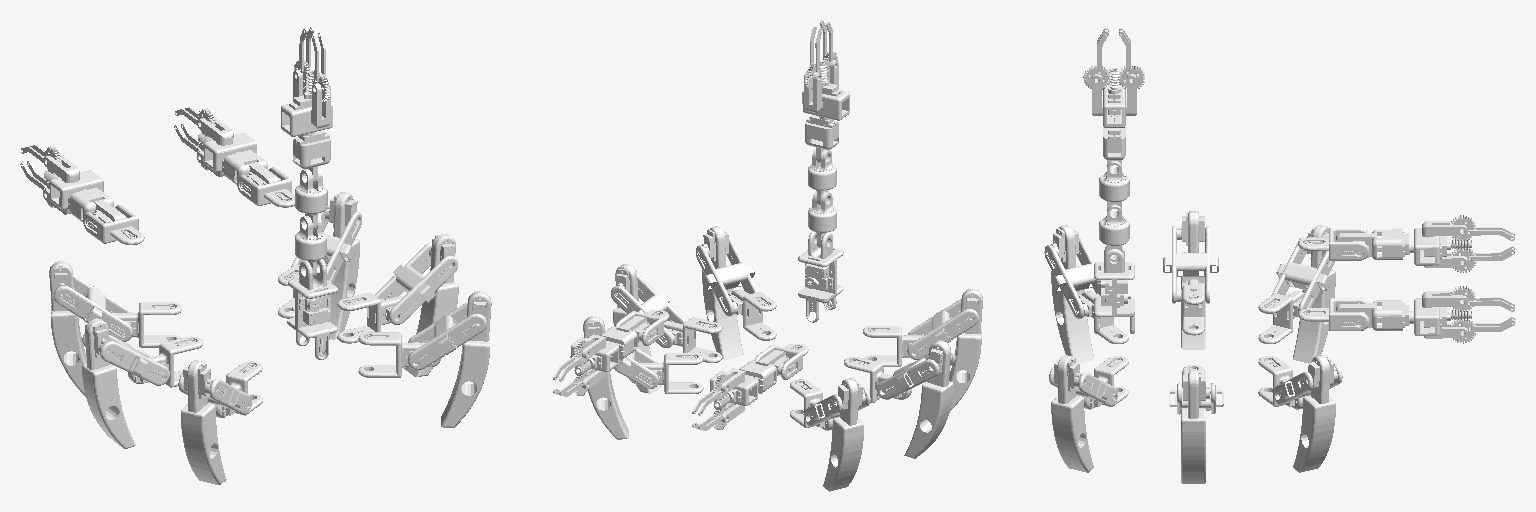
--- What the picture shows (computed from the rendered views, not written in the file) ---
The picture shows the robot from 3 angles, left to right: view 1: azimuth 30°, elevation 25°; view 2: azimuth 150°, elevation 25°; view 3: azimuth 270°, elevation 25°; orthographic projection.
Robot: sc — 36 links, 35 joints (35 revolute); root link BASE; default pose: all joints at 0.
Visible links, largest first — view 1: Link3_3, Link2_3, TLink1, Link6_3, Link5_2, Link1_3, Link6_2, TLink5, Link1_2, Link4_3, Link5_3, LLink3 (+18 smaller); view 2: Link1_3, Link2_3, TLink1, Link6_3, Link3_3, Link6_2, Link3_2, TLink5, Link4_3, Link5_2, LLink3, RLink3 (+18 smaller); view 3: Link6_3, Link4_3, Link5_3, Link3_3, TLink1, RLink3, LLink3, Link1_2, TLink5, Link1_3, Link3_2, Link2_2 (+22 smaller).
Boxes of the visible links, left/top/right/bottom form: Link3_3: left=181, top=360, right=226, bottom=484; Link2_3: left=82, top=318, right=135, bottom=448; TLink1: left=287, top=259, right=337, bottom=359; Link6_3: left=441, top=291, right=491, bottom=427; Link5_2: left=375, top=243, right=457, bottom=324; Link1_3: left=49, top=261, right=86, bottom=396; Link6_2: left=408, top=302, right=486, bottom=369; TLink5: left=281, top=68, right=332, bottom=136; Link1_2: left=54, top=274, right=132, bottom=341; Link4_3: left=324, top=192, right=359, bottom=339; Link5_3: left=404, top=234, right=458, bottom=376; LLink3: left=43, top=153, right=103, bottom=214; Link1_3: left=823, top=378, right=865, bottom=491; Link2_3: left=904, top=340, right=953, bottom=458; TLink1: left=798, top=231, right=843, bottom=322; Link6_3: left=702, top=226, right=743, bottom=359; Link3_3: left=949, top=289, right=982, bottom=410; Link6_2: left=696, top=239, right=757, bottom=316; Link3_2: left=907, top=298, right=978, bottom=359; TLink5: left=802, top=59, right=849, bottom=120; Link4_3: left=583, top=316, right=628, bottom=439; Link5_2: left=611, top=275, right=686, bottom=347; LLink3: left=710, top=368, right=757, bottom=423; RLink3: left=570, top=334, right=618, bottom=389; Link6_3: left=1051, top=355, right=1093, bottom=472; Link4_3: left=1293, top=355, right=1337, bottom=472; Link5_3: left=1181, top=370, right=1210, bottom=483; Link3_3: left=1051, top=225, right=1093, bottom=362; TLink1: left=1094, top=246, right=1134, bottom=333; RLink3: left=1414, top=291, right=1471, bottom=338; LLink3: left=1414, top=221, right=1471, bottom=267; Link1_2: left=1271, top=237, right=1334, bottom=312; TLink5: left=1092, top=68, right=1136, bottom=127; Link1_3: left=1293, top=225, right=1335, bottom=363; Link3_2: left=1044, top=238, right=1100, bottom=318; Link2_2: left=1163, top=226, right=1218, bottom=303.
Size in the robot's own frame: 0.3911 by 0.4613 by 0.4156 metres.
Meshes: 36 distinct files referenced, 35 mesh visuals loaded (35 binary STL); not drawn: 1 (reference not matched to a file when rendering).

URDF robot description (sc):
<?xml version="1.0" encoding="utf-8" ?>
<!-- This URDF was automatically created by SolidWorks to URDF Exporter! Originally created by Stephen Brawner ([email redacted]) 
     Commit Version: 1.6.0-4-g7f85cfe  Build Version: 1.6.7995.38578
     For more information, please see http://wiki.ros.org/sw_urdf_exporter -->
<robot name="sc">
    <link name="BASE">
        <inertial>
            <origin xyz="5.72467459547532E-09 0.0159202797459075 0.0194791934838799" rpy="0 0 0" />
            <mass value="0.284211086498301" />
            <inertia ixx="0.000361064358674811" ixy="5.3486352288648E-11" ixz="-9.68382318932767E-12" iyy="0.000163704844526669" iyz="1.26663197260185E-08" izz="0.000503898022090358" />
        </inertial>
        <visual>
            <origin xyz="0 0 0" rpy="0 0 0" />
            <geometry>
                <mesh filename="package://sc/meshes/BASE.STL" />
            </geometry>
            <material name="">
                <color rgba="1 1 1 1" />
            </material>
        </visual>
        <collision>
            <origin xyz="0 0 0" rpy="0 0 0" />
            <geometry>
                <mesh filename="package://sc/meshes/BASE.STL" />
            </geometry>
        </collision>
    </link>
    <link name="Link1_1">
        <inertial>
            <origin xyz="-0.0305510790740942 0.0167741325759093 -0.0182493779419036" rpy="0 0 0" />
            <mass value="0.0229260891182904" />
            <inertia ixx="3.85763370952868E-06" ixy="1.89277165572134E-06" ixz="4.36687715899513E-10" iyy="6.01502051568703E-06" iyz="-2.48827974729027E-10" izz="5.27293792722868E-06" />
        </inertial>
        <visual>
            <origin xyz="0 0 0" rpy="0 0 0" />
            <geometry>
                <mesh filename="package://sc/meshes/Link1_1.STL" />
            </geometry>
            <material name="">
                <color rgba="1 1 1 1" />
            </material>
        </visual>
        <collision>
            <origin xyz="0 0 0" rpy="0 0 0" />
            <geometry>
                <mesh filename="package://sc/meshes/Link1_1.STL" />
            </geometry>
        </collision>
    </link>
    <joint name="Joint1_1" type="revolute">
        <origin xyz="-0.062392 0.061425 0.02595" rpy="0 0 0" />
        <parent link="BASE" />
        <child link="Link1_1" />
        <axis xyz="0 0 1" />
        <limit lower="-7" upper="7" effort="100" velocity="100" />
    </joint>
    <link name="Link1_2">
        <inertial>
            <origin xyz="-0.0158388290918334 0.0300544158992501 0.0199694861387752" rpy="0 0 0" />
            <mass value="0.0237018015212768" />
            <inertia ixx="7.56412841109665E-06" ixy="5.37713054967067E-08" ixz="2.47900674543859E-06" iyy="7.62621816650311E-06" iyz="-1.43125521180187E-06" izz="9.66468972303202E-06" />
        </inertial>
        <visual>
            <origin xyz="0 0 0" rpy="0 0 0" />
            <geometry>
                <mesh filename="package://sc/meshes/Link1_2.STL" />
            </geometry>
            <material name="">
                <color rgba="1 1 1 1" />
            </material>
        </visual>
        <collision>
            <origin xyz="0 0 0" rpy="0 0 0" />
            <geometry>
                <mesh filename="package://sc/meshes/Link1_2.STL" />
            </geometry>
        </collision>
    </link>
    <joint name="Joint1_2" type="revolute">
        <origin xyz="-0.0480172012540558 0.00353176779071716 -0.0184000000000004" rpy="0 0 0" />
        <parent link="Link1_1" />
        <child link="Link1_2" />
        <axis xyz="-0.499999999999997 -0.86602540378444 0" />
        <limit lower="-7" upper="7" effort="100" velocity="100" />
    </joint>
    <link name="Link1_3">
        <inertial>
            <origin xyz="0.016171988039484 0.0145112463016462 -0.0449869707899275" rpy="0 0 0" />
            <mass value="0.0578996972602494" />
            <inertia ixx="4.96036614484442E-05" ixy="1.27231313084372E-06" ixz="9.17320129391968E-06" iyy="5.10707532414175E-05" iyz="-5.31073729488966E-06" izz="7.47030700929341E-06" />
        </inertial>
        <visual>
            <origin xyz="0 0 0" rpy="0 0 0" />
            <geometry>
                <mesh filename="package://sc/meshes/Link1_3.STL" />
            </geometry>
            <material name="">
                <color rgba="1 1 1 1" />
            </material>
        </visual>
        <collision>
            <origin xyz="0 0 0" rpy="0 0 0" />
            <geometry>
                <mesh filename="package://sc/meshes/Link1_3.STL" />
            </geometry>
        </collision>
    </link>
    <joint name="Joint1_3" type="revolute">
        <origin xyz="-0.0497861313024054 0.0287440363093533 0.0399389722775644" rpy="0 0 0" />
        <parent link="Link1_2" />
        <child link="Link1_3" />
        <axis xyz="-0.499999999999998 -0.86602540378444 0" />
        <limit lower="-7" upper="7" effort="100" velocity="100" />
    </joint>
    <link name="Link2_1">
        <inertial>
            <origin xyz="0.034845075167807 -0.000748713097714162 0.0182493777000012" rpy="0 0 0" />
            <mass value="0.022926095326487" />
            <inertia ixx="2.75779226801906E-06" ixy="-1.22095586301876E-08" ixz="5.02513216807862E-10" iyy="7.11486267373788E-06" iyz="-2.95741168729654E-12" izz="5.27293836480296E-06" />
        </inertial>
        <visual>
            <origin xyz="0 0 0" rpy="0 0 0" />
            <geometry>
                <mesh filename="package://sc/meshes/Link2_1.STL" />
            </geometry>
            <material name="">
                <color rgba="1 1 1 1" />
            </material>
        </visual>
        <collision>
            <origin xyz="0 0 0" rpy="0 0 0" />
            <geometry>
                <mesh filename="package://sc/meshes/Link2_1.STL" />
            </geometry>
        </collision>
    </link>
    <joint name="Joint2_1" type="revolute">
        <origin xyz="-0.082878 -0.0125 0.02595" rpy="3.1416 0 3.1416" />
        <parent link="BASE" />
        <child link="Link2_1" />
        <axis xyz="0 0 -1" />
        <limit lower="-7" upper="7" effort="100" velocity="100" />
    </joint>
    <link name="Link2_2">
        <inertial>
            <origin xyz="-0.0287440363093526 0.018108473118737 0.0199694861387753" rpy="0 0 0" />
            <mass value="0.0237018015212768" />
            <inertia ixx="7.53308353339347E-06" ixy="-2.85335952300167E-20" ixz="2.86251042360374E-06" iyy="7.6572630442063E-06" iyz="-3.81887575324653E-20" izz="9.66468972303202E-06" />
        </inertial>
        <visual>
            <origin xyz="0 0 0" rpy="0 0 0" />
            <geometry>
                <mesh filename="package://sc/meshes/Link2_2.STL" />
            </geometry>
            <material name="">
                <color rgba="1 1 1 1" />
            </material>
        </visual>
        <collision>
            <origin xyz="0 0 0" rpy="0 0 0" />
            <geometry>
                <mesh filename="package://sc/meshes/Link2_2.STL" />
            </geometry>
        </collision>
    </link>
    <joint name="Joint2_2" type="revolute">
        <origin xyz="0.0433500000000012 -0.0209499999999987 0.0184000000000004" rpy="3.14159265358979 0 3.14159265358979" />
        <parent link="Link2_1" />
        <child link="Link2_2" />
        <axis xyz="0 -1 0" />
        <limit lower="-7" upper="7" effort="100" velocity="100" />
    </joint>
    <link name="Link2_3">
        <inertial>
            <origin xyz="0.00674972944168441 0.0206531015833406 -0.0449869694528496" rpy="0 0 0" />
            <mass value="0.0578997001933118" />
            <inertia ixx="4.8868579913715E-05" ixy="8.87141400882127E-10" ixz="1.05995945472986E-05" iyy="5.18058370888588E-05" iyz="-1.26326825912351E-08" izz="7.47030739789493E-06" />
        </inertial>
        <visual>
            <origin xyz="0 0 0" rpy="0 0 0" />
            <geometry>
                <mesh filename="package://sc/meshes/Link2_3.STL" />
            </geometry>
            <material name="">
                <color rgba="1 1 1 1" />
            </material>
        </visual>
        <collision>
            <origin xyz="0 0 0" rpy="0 0 0" />
            <geometry>
                <mesh filename="package://sc/meshes/Link2_3.STL" />
            </geometry>
        </collision>
    </link>
    <joint name="Joint2_3" type="revolute">
        <origin xyz="-0.0574880726187073 0 0.0399389722775644" rpy="0 0 0" />
        <parent link="Link2_2" />
        <child link="Link2_3" />
        <axis xyz="0 -1 0" />
        <limit lower="-7" upper="7" effort="100" velocity="100" />
    </joint>
    <link name="Link3_1">
        <inertial>
            <origin xyz="-0.0298023675063099 -0.0180709386947381 -0.018249377359046" rpy="0 0 0" />
            <mass value="0.0229260885202522" />
            <inertia ixx="3.83648621668762E-06" ixy="-1.88056216106497E-06" ixz="4.33688370503816E-10" iyy="6.03616793825558E-06" iyz="2.53684826208611E-10" izz="5.27293789875808E-06" />
        </inertial>
        <visual>
            <origin xyz="0 0 0" rpy="0 0 0" />
            <geometry>
                <mesh filename="package://sc/meshes/Link3_1.STL" />
            </geometry>
            <material name="">
                <color rgba="1 1 1 1" />
            </material>
        </visual>
        <collision>
            <origin xyz="0 0 0" rpy="0 0 0" />
            <geometry>
                <mesh filename="package://sc/meshes/Link3_1.STL" />
            </geometry>
        </collision>
    </link>
    <joint name="Joint3_1" type="revolute">
        <origin xyz="-0.062392 -0.086425 0.02595" rpy="0 0 0" />
        <parent link="BASE" />
        <child link="Link3_1" />
        <axis xyz="0 0 1" />
        <limit lower="-7" upper="7" effort="100" velocity="100" />
    </joint>
    <link name="Link3_2">
        <inertial>
            <origin xyz="-0.0339473022105701 0.00131037958989745 0.0199694861387753" rpy="0 0 0" />
            <mass value="0.0237018015212768" />
            <inertia ixx="7.5641284110967E-06" ixy="-5.37713054967398E-08" ixz="2.47900674543861E-06" iyy="7.62621816650305E-06" iyz="1.43125521180184E-06" izz="9.66468972303203E-06" />
        </inertial>
        <visual>
            <origin xyz="0 0 0" rpy="0 0 0" />
            <geometry>
                <mesh filename="package://sc/meshes/Link3_2.STL" />
            </geometry>
            <material name="">
                <color rgba="1 1 1 1" />
            </material>
        </visual>
        <collision>
            <origin xyz="0 0 0" rpy="0 0 0" />
            <geometry>
                <mesh filename="package://sc/meshes/Link3_2.STL" />
            </geometry>
        </collision>
    </link>
    <joint name="Joint3_2" type="revolute">
        <origin xyz="-0.027067201254057 -0.0398182322092834 -0.0184000000000006" rpy="0 0 0" />
        <parent link="Link3_1" />
        <child link="Link3_2" />
        <axis xyz="0.499999999999997 -0.866025403784441 0" />
        <limit lower="-7" upper="7" effort="100" velocity="100" />
    </joint>
    <link name="Link3_3">
        <inertial>
            <origin xyz="-0.00448111379492015 0.0212609753086896 -0.0449869693344172" rpy="0 0 0" />
            <mass value="0.0578996990572686" />
            <inertia ixx="4.96021247751176E-05" ixy="-1.27142594271281E-06" ixz="9.18583406960913E-06" iyy="5.10722899167252E-05" iyz="5.28885669924225E-06" izz="7.47030704841763E-06" />
        </inertial>
        <visual>
            <origin xyz="0 0 0" rpy="0 0 0" />
            <geometry>
                <mesh filename="package://sc/meshes/Link3_3.STL" />
            </geometry>
            <material name="">
                <color rgba="1 1 1 1" />
            </material>
        </visual>
        <collision>
            <origin xyz="0 0 0" rpy="0 0 0" />
            <geometry>
                <mesh filename="package://sc/meshes/Link3_3.STL" />
            </geometry>
        </collision>
    </link>
    <joint name="Joint3_3" type="revolute">
        <origin xyz="-0.0497861313024051 -0.028744036309354 0.0399389722775643" rpy="0 0 0" />
        <parent link="Link3_2" />
        <child link="Link3_3" />
        <axis xyz="0.499999999999995 -0.866025403784441 0" />
        <limit lower="-7" upper="7" effort="100" velocity="100" />
    </joint>
    <link name="Link4_1">
        <inertial>
            <origin xyz="0.0298023675057879 0.0180709386845208 -0.0182493773593328" rpy="0 0 0" />
            <mass value="0.0229260885000176" />
            <inertia ixx="3.83648621643428E-06" ixy="-1.88056216076028E-06" ixz="-4.33688361708438E-10" iyy="6.03616793716125E-06" iyz="-2.53684801698372E-10" izz="5.27293789770267E-06" />
        </inertial>
        <visual>
            <origin xyz="0 0 0" rpy="0 0 0" />
            <geometry>
                <mesh filename="package://sc/meshes/Link4_1.STL" />
            </geometry>
            <material name="">
                <color rgba="1 1 1 1" />
            </material>
        </visual>
        <collision>
            <origin xyz="0 0 0" rpy="0 0 0" />
            <geometry>
                <mesh filename="package://sc/meshes/Link4_1.STL" />
            </geometry>
        </collision>
    </link>
    <joint name="Joint4_1" type="revolute">
        <origin xyz="0.062392 0.061425 0.02595" rpy="0 0 0" />
        <parent link="BASE" />
        <child link="Link4_1" />
        <axis xyz="0 0 1" />
        <limit lower="-7" upper="7" effort="100" velocity="100" />
    </joint>
    <link name="Link4_2">
        <inertial>
            <origin xyz="0.0339473022105704 -0.00131037958989749 0.0199694861387749" rpy="0 0 0" />
            <mass value="0.0237018015212766" />
            <inertia ixx="7.56412841109659E-06" ixy="-5.37713054967553E-08" ixz="-2.47900674543857E-06" iyy="7.62621816650302E-06" iyz="-1.43125521180182E-06" izz="9.66468972303205E-06" />
        </inertial>
        <visual>
            <origin xyz="0 0 0" rpy="0 0 0" />
            <geometry>
                <mesh filename="package://sc/meshes/Link4_2.STL" />
            </geometry>
            <material name="">
                <color rgba="1 1 1 1" />
            </material>
        </visual>
        <collision>
            <origin xyz="0 0 0" rpy="0 0 0" />
            <geometry>
                <mesh filename="package://sc/meshes/Link4_2.STL" />
            </geometry>
        </collision>
    </link>
    <joint name="Joint4_2" type="revolute">
        <origin xyz="0.0270672012540568 0.0398182322092834 -0.0184000000000009" rpy="0 0 0" />
        <parent link="Link4_1" />
        <child link="Link4_2" />
        <axis xyz="-0.499999999999995 0.866025403784441 0" />
        <limit lower="-7" upper="7" effort="100" velocity="100" />
    </joint>
    <link name="Link4_3">
        <inertial>
            <origin xyz="0.00448111379584698 -0.0212609753047241 -0.0449869693216264" rpy="0 0 0" />
            <mass value="0.0578996990729156" />
            <inertia ixx="4.96021247753795E-05" ixy="-1.27142594290555E-06" ixz="-9.18583406957853E-06" iyy="5.10722899169478E-05" iyz="-5.28885669914692E-06" izz="7.47030704887786E-06" />
        </inertial>
        <visual>
            <origin xyz="0 0 0" rpy="0 0 0" />
            <geometry>
                <mesh filename="package://sc/meshes/Link4_3.STL" />
            </geometry>
            <material name="">
                <color rgba="1 1 1 1" />
            </material>
        </visual>
        <collision>
            <origin xyz="0 0 0" rpy="0 0 0" />
            <geometry>
                <mesh filename="package://sc/meshes/Link4_3.STL" />
            </geometry>
        </collision>
    </link>
    <joint name="Joint4_3" type="revolute">
        <origin xyz="0.0497861313024057 0.0287440363093538 0.0399389722775637" rpy="0 0 0" />
        <parent link="Link4_2" />
        <child link="Link4_3" />
        <axis xyz="-0.499999999999994 0.866025403784442 0" />
        <limit lower="-7" upper="7" effort="100" velocity="100" />
    </joint>
    <link name="Link5_1">
        <inertial>
            <origin xyz="0.0348450751668918 0.000748713096014895 -0.0182493776997562" rpy="0 0 0" />
            <mass value="0.0229260953228649" />
            <inertia ixx="2.75779226798812E-06" ixy="1.22095585679968E-08" ixz="-5.02513184892527E-10" iyy="7.11486267352083E-06" iyz="-2.9574239134385E-12" izz="5.27293836457624E-06" />
        </inertial>
        <visual>
            <origin xyz="0 0 0" rpy="0 0 0" />
            <geometry>
                <mesh filename="package://sc/meshes/Link5_1.STL" />
            </geometry>
            <material name="">
                <color rgba="1 1 1 1" />
            </material>
        </visual>
        <collision>
            <origin xyz="0 0 0" rpy="0 0 0" />
            <geometry>
                <mesh filename="package://sc/meshes/Link5_1.STL" />
            </geometry>
        </collision>
    </link>
    <joint name="Joint5_1" type="revolute">
        <origin xyz="0.082878 -0.0125 0.02595" rpy="0 0 0" />
        <parent link="BASE" />
        <child link="Link5_1" />
        <axis xyz="0 0 1" />
        <limit lower="-7" upper="7" effort="100" velocity="100" />
    </joint>
    <link name="Link5_2">
        <inertial>
            <origin xyz="0.0287440363093529 -0.0181084731187368 0.0199694861387749" rpy="0 0 0" />
            <mass value="0.0237018015212767" />
            <inertia ixx="7.53308353339337E-06" ixy="-2.91179466339971E-20" ixz="-2.86251042360371E-06" iyy="7.65726304420628E-06" iyz="1.68919586865219E-20" izz="9.66468972303208E-06" />
        </inertial>
        <visual>
            <origin xyz="0 0 0" rpy="0 0 0" />
            <geometry>
                <mesh filename="package://sc/meshes/Link5_2.STL" />
            </geometry>
            <material name="">
                <color rgba="1 1 1 1" />
            </material>
        </visual>
        <collision>
            <origin xyz="0 0 0" rpy="0 0 0" />
            <geometry>
                <mesh filename="package://sc/meshes/Link5_2.STL" />
            </geometry>
        </collision>
    </link>
    <joint name="Joint5_2" type="revolute">
        <origin xyz="0.0433500000000008 0.0209499999999989 -0.018400000000001" rpy="0 0 0" />
        <parent link="Link5_1" />
        <child link="Link5_2" />
        <axis xyz="0 1 0" />
        <limit lower="-7" upper="7" effort="100" velocity="100" />
    </joint>
    <link name="Link5_3">
        <inertial>
            <origin xyz="-0.00674972943954649 -0.0206531015817771 -0.0449869694459858" rpy="0 0 0" />
            <mass value="0.057899700201425" />
            <inertia ixx="4.88685799136518E-05" ixy="8.87141243920424E-10" ixz="-1.05995945470928E-05" iyy="5.18058370889518E-05" iyz="1.26326825996688E-08" izz="7.47030739813807E-06" />
        </inertial>
        <visual>
            <origin xyz="0 0 0" rpy="0 0 0" />
            <geometry>
                <mesh filename="package://sc/meshes/Link5_3.STL" />
            </geometry>
            <material name="">
                <color rgba="1 1 1 1" />
            </material>
        </visual>
        <collision>
            <origin xyz="0 0 0" rpy="0 0 0" />
            <geometry>
                <mesh filename="package://sc/meshes/Link5_3.STL" />
            </geometry>
        </collision>
    </link>
    <joint name="Joint5_3" type="revolute">
        <origin xyz="0.0574880726187079 0 0.0399389722775636" rpy="0 0 0" />
        <parent link="Link5_2" />
        <child link="Link5_3" />
        <axis xyz="0 1 0" />
        <limit lower="-7" upper="7" effort="100" velocity="100" />
    </joint>
    <link name="Link6_1">
        <inertial>
            <origin xyz="0.0305510790668958 -0.0167741325777971 -0.0182493779392898" rpy="0 0 0" />
            <mass value="0.0229260891064604" />
            <inertia ixx="3.85763370917189E-06" ixy="1.89277165566602E-06" ixz="-4.36687634893302E-10" iyy="6.01502051539967E-06" iyz="2.48827799808866E-10" izz="5.27293792708602E-06" />
        </inertial>
        <visual>
            <origin xyz="0 0 0" rpy="0 0 0" />
            <geometry>
                <mesh filename="package://sc/meshes/Link6_1.STL" />
            </geometry>
            <material name="">
                <color rgba="1 1 1 1" />
            </material>
        </visual>
        <collision>
            <origin xyz="0 0 0" rpy="0 0 0" />
            <geometry>
                <mesh filename="package://sc/meshes/Link6_1.STL" />
            </geometry>
        </collision>
    </link>
    <joint name="Joint6_1" type="revolute">
        <origin xyz="0.062392 -0.086425 0.02595" rpy="0 0 0" />
        <parent link="BASE" />
        <child link="Link6_1" />
        <axis xyz="0 0 1" />
        <limit lower="-7" upper="7" effort="100" velocity="100" />
    </joint>
    <link name="Link6_2">
        <inertial>
            <origin xyz="0.0158388290918338 -0.03005441589925 0.019969486138775" rpy="0 0 0" />
            <mass value="0.0237018015212768" />
            <inertia ixx="7.56412841109658E-06" ixy="5.37713054967267E-08" ixz="-2.47900674543857E-06" iyy="7.62621816650311E-06" iyz="1.43125521180186E-06" izz="9.6646897230321E-06" />
        </inertial>
        <visual>
            <origin xyz="0 0 0" rpy="0 0 0" />
            <geometry>
                <mesh filename="package://sc/meshes/Link6_2.STL" />
            </geometry>
            <material name="">
                <color rgba="1 1 1 1" />
            </material>
        </visual>
        <collision>
            <origin xyz="0 0 0" rpy="0 0 0" />
            <geometry>
                <mesh filename="package://sc/meshes/Link6_2.STL" />
            </geometry>
        </collision>
    </link>
    <joint name="Joint6_2" type="revolute">
        <origin xyz="0.0480172012540556 -0.00353176779071687 -0.0184000000000011" rpy="0 0 0" />
        <parent link="Link6_1" />
        <child link="Link6_2" />
        <axis xyz="0.499999999999991 0.866025403784444 0" />
        <limit lower="-7" upper="7" effort="100" velocity="100" />
    </joint>
    <link name="Link6_3">
        <inertial>
            <origin xyz="-0.016171988032116 -0.0145112462987466 -0.0449869707656819" rpy="0 0 0" />
            <mass value="0.0578996972928195" />
            <inertia ixx="4.96036614500568E-05" ixy="1.2723131307911E-06" ixz="-9.17320129352448E-06" iyy="5.10707532432578E-05" iyz="5.31073729518829E-06" izz="7.47030700962685E-06" />
        </inertial>
        <visual>
            <origin xyz="0 0 0" rpy="0 0 0" />
            <geometry>
                <mesh filename="package://sc/meshes/Link6_3.STL" />
            </geometry>
            <material name="">
                <color rgba="1 1 1 1" />
            </material>
        </visual>
        <collision>
            <origin xyz="0 0 0" rpy="0 0 0" />
            <geometry>
                <mesh filename="package://sc/meshes/Link6_3.STL" />
            </geometry>
        </collision>
    </link>
    <joint name="Joint6_3" type="revolute">
        <origin xyz="0.0497861313024061 -0.0287440363093529 0.0399389722775637" rpy="0 0 0" />
        <parent link="Link6_2" />
        <child link="Link6_3" />
        <axis xyz="0.499999999999993 0.866025403784443 0" />
        <limit lower="-7" upper="7" effort="100" velocity="100" />
    </joint>
    <link name="TLink1">
        <inertial>
            <origin xyz="0.000341212910543842 0.0183451092488032 0.0417109463245265" rpy="0 0 0" />
            <mass value="0.0396284744927645" />
            <inertia ixx="1.38296882721623E-05" ixy="-2.51143481412259E-08" ixz="-7.15092544706698E-08" iyy="1.43509219717325E-05" iyz="2.71807020797111E-08" izz="5.08874672788802E-06" />
        </inertial>
        <visual>
            <origin xyz="0 0 0" rpy="0 0 0" />
            <geometry>
                <mesh filename="package://sc/meshes/TLink1.STL" />
            </geometry>
            <material name="">
                <color rgba="1 1 1 1" />
            </material>
        </visual>
        <collision>
            <origin xyz="0 0 0" rpy="0 0 0" />
            <geometry>
                <mesh filename="package://sc/meshes/TLink1.STL" />
            </geometry>
        </collision>
    </link>
    <joint name="TJoint1" type="revolute">
        <origin xyz="0 -0.10845 0.03265" rpy="0 0 0" />
        <parent link="BASE" />
        <child link="TLink1" />
        <axis xyz="0 -1 0" />
        <limit lower="-7" upper="7" effort="100" velocity="100" />
    </joint>
    <link name="TLink2">
        <inertial>
            <origin xyz="-0.00228905348926284 7.27198856687039E-12 0.0257970095548198" rpy="0 0 0" />
            <mass value="0.0168370698582301" />
            <inertia ixx="2.46634714119151E-06" ixy="5.63125875716148E-13" ixz="-6.97042790452075E-09" iyy="2.4513896515674E-06" iyz="-4.24439184964104E-15" izz="1.61431631493976E-06" />
        </inertial>
        <visual>
            <origin xyz="0 0 0" rpy="0 0 0" />
            <geometry>
                <mesh filename="package://sc/meshes/TLink2.STL" />
            </geometry>
            <material name="">
                <color rgba="1 1 1 1" />
            </material>
        </visual>
        <collision>
            <origin xyz="0 0 0" rpy="0 0 0" />
            <geometry>
                <mesh filename="package://sc/meshes/TLink2.STL" />
            </geometry>
        </collision>
    </link>
    <joint name="TJoint2" type="revolute">
        <origin xyz="0.000638050844598892 0.0184 0.0779973902840326" rpy="0 0 0" />
        <parent link="TLink1" />
        <child link="TLink2" />
        <axis xyz="0.999966542102983 0 -0.00818013903322798" />
        <limit lower="-7" upper="7" effort="100" velocity="100" />
    </joint>
    <link name="TLink3">
        <inertial>
            <origin xyz="0.000210862865994615 7.27194693350697E-12 0.0257765592072368" rpy="0 0 0" />
            <mass value="0.0168370698582301" />
            <inertia ixx="2.46634714130345E-06" ixy="5.63125873546146E-13" ixz="-6.97042790485073E-09" iyy="2.45138965167935E-06" iyz="-4.24439444289259E-15" izz="1.61431631493976E-06" />
        </inertial>
        <visual>
            <origin xyz="0 0 0" rpy="0 0 0" />
            <geometry>
                <mesh filename="package://sc/meshes/TLink3.STL" />
            </geometry>
            <material name="">
                <color rgba="1 1 1 1" />
            </material>
        </visual>
        <collision>
            <origin xyz="0 0 0" rpy="0 0 0" />
            <geometry>
                <mesh filename="package://sc/meshes/TLink3.STL" />
            </geometry>
        </collision>
    </link>
    <joint name="TJoint3" type="revolute">
        <origin xyz="-0.0021113597511791 0 0.0475188610974747" rpy="0 0 0" />
        <parent link="TLink2" />
        <child link="TLink3" />
        <axis xyz="0.999966542102983 0 -0.00818013903322868" />
        <limit lower="-7" upper="7" effort="100" velocity="100" />
    </joint>
    <link name="TLink4">
        <inertial>
            <origin xyz="4.80741628913761E-05 8.36712022861397E-08 0.028187031288893" rpy="0 0 0" />
            <mass value="0.0194049472630492" />
            <inertia ixx="1.61665440318096E-06" ixy="9.72092410613485E-12" ixz="1.53790465121666E-08" iyy="2.34558408932054E-06" iyz="4.38069396392773E-12" izz="1.94803752520642E-06" />
        </inertial>
        <visual>
            <origin xyz="0 0 0" rpy="0 0 0" />
            <geometry>
                <mesh filename="package://sc/meshes/TLink4.STL" />
            </geometry>
            <material name="">
                <color rgba="1 1 1 1" />
            </material>
        </visual>
        <collision>
            <origin xyz="0 0 0" rpy="0 0 0" />
            <geometry>
                <mesh filename="package://sc/meshes/TLink4.STL" />
            </geometry>
        </collision>
    </link>
    <joint name="TJoint4" type="revolute">
        <origin xyz="0.000388556604078327 0 0.0474984107498917" rpy="0 0 0" />
        <parent link="TLink3" />
        <child link="TLink4" />
        <axis xyz="-0.999966542102983 0 0.00818013903322775" />
        <limit lower="-7" upper="7" effort="100" velocity="100" />
    </joint>
    <link name="TLink5">
        <inertial>
            <origin xyz="0.00187420750278167 -2.91089623793983E-08 0.0155490679961494" rpy="0 0 0" />
            <mass value="0.0326658696380878" />
            <inertia ixx="7.32736241509605E-06" ixy="1.47688768094545E-11" ixz="-4.49345566111255E-07" iyy="6.85677391849101E-06" iyz="6.2854289649575E-10" izz="6.75579826592474E-06" />
        </inertial>
        <visual>
            <origin xyz="0 0 0" rpy="0 0 0" />
            <geometry>
                <mesh filename="package://sc/meshes/TLink5.STL" />
            </geometry>
            <material name="">
                <color rgba="1 1 1 1" />
            </material>
        </visual>
        <collision>
            <origin xyz="0 0 0" rpy="0 0 0" />
            <geometry>
                <mesh filename="package://sc/meshes/TLink5.STL" />
            </geometry>
        </collision>
    </link>
    <joint name="TJoint5" type="revolute">
        <origin xyz="-0.00471259926050435 0 0.0534903393914256" rpy="0 0 0" />
        <parent link="TLink4" />
        <child link="TLink5" />
        <axis xyz="0.00818013903322799 0 0.999966542102983" />
        <limit lower="-7" upper="7" effort="100" velocity="100" />
    </joint>
    <link name="TLink5_1">
        <inertial>
            <origin xyz="7.21116032783575E-05 -0.00139253498058628 0.00882045616801402" rpy="0 0 0" />
            <mass value="0.00289407866796548" />
            <inertia ixx="3.06894343728643E-07" ixy="1.32249864722182E-10" ixz="-1.7934107706362E-09" iyy="2.28268631589236E-07" iyz="1.61666385245531E-08" izz="8.76766971594659E-08" />
        </inertial>
        <visual>
            <origin xyz="0 0 0" rpy="0 0 0" />
            <geometry>
                <mesh filename="package://sc/meshes/TLink5_1.STL" />
            </geometry>
            <material name="">
                <color rgba="1 1 1 1" />
            </material>
        </visual>
        <collision>
            <origin xyz="0 0 0" rpy="0 0 0" />
            <geometry>
                <mesh filename="package://sc/meshes/TLink5_1.STL" />
            </geometry>
        </collision>
    </link>
    <joint name="TJoint5_1" type="revolute">
        <origin xyz="0.00550239168416253 0.017 0.0430564302486174" rpy="0 0 0" />
        <parent link="TLink5" />
        <child link="TLink5_1" />
        <axis xyz="0.999966542102983 0 -0.00818013903322775" />
        <limit lower="-7" upper="7" effort="100" velocity="100" />
    </joint>
    <link name="TLink5_2">
        <inertial>
            <origin xyz="7.29067167685171E-05 0.00117680154680974 0.00891765231377004" rpy="0 0 0" />
            <mass value="0.00289407865197651" />
            <inertia ixx="3.06894343339399E-07" ixy="-1.32249763726066E-10" ixz="-1.79341077053137E-09" iyy="2.28268631306438E-07" iyz="-1.61666387259933E-08" izz="8.76766969567021E-08" />
        </inertial>
        <visual>
            <origin xyz="0 0 0" rpy="0 0 0" />
            <geometry>
                <mesh filename="package://sc/meshes/TLink5_2.STL" />
            </geometry>
            <material name="">
                <color rgba="1 1 1 1" />
            </material>
        </visual>
        <collision>
            <origin xyz="0 0 0" rpy="0 0 0" />
            <geometry>
                <mesh filename="package://sc/meshes/TLink5_2.STL" />
            </geometry>
        </collision>
    </link>
    <joint name="TJoint5_2" type="revolute">
        <origin xyz="0.00550239168416244 -0.017 0.0430564302486175" rpy="0 0 0" />
        <parent link="TLink5" />
        <child link="TLink5_2" />
        <axis xyz="0.999966542102983 0 -0.00818013903322775" />
        <limit lower="-7" upper="7" effort="100" velocity="100" />
    </joint>
    <link name="LLink1">
        <inertial>
            <origin xyz="-0.000298924163147307 0.0265937423803867 -0.00191385785280266" rpy="0 0 0" />
            <mass value="0.0115574626542669" />
            <inertia ixx="2.91200972694176E-06" ixy="-4.9282837131493E-10" ixz="5.33363319853426E-21" iyy="2.17801001508802E-06" iyz="-5.06509283902059E-09" izz="4.52404060614242E-06" />
        </inertial>
        <visual>
            <origin xyz="0 0 0" rpy="0 0 0" />
            <geometry>
                <mesh filename="package://sc/meshes/LLink1.STL" />
            </geometry>
            <material name="">
                <color rgba="1 1 1 1" />
            </material>
        </visual>
        <collision>
            <origin xyz="0 0 0" rpy="0 0 0" />
            <geometry>
                <mesh filename="package://sc/meshes/LLink1.STL" />
            </geometry>
        </collision>
    </link>
    <joint name="LJoint1" type="revolute">
        <origin xyz="-0.08185 0.09975 0.08595" rpy="0 0 0" />
        <parent link="BASE" />
        <child link="LLink1" />
        <axis xyz="0 0 1" />
        <limit lower="-7" upper="7" effort="100" velocity="100" />
    </joint>
    <link name="LLink2">
        <inertial>
            <origin xyz="0.0205496139288378 0.0175021550443651 0.000234379053507143" rpy="0 0 0" />
            <mass value="0.0340893649012877" />
            <inertia ixx="6.35151914439752E-06" ixy="1.89757334837034E-13" ixz="-1.41433744537121E-11" iyy="2.72243652424388E-06" iyz="-5.61985541692419E-08" izz="6.91960317619835E-06" />
        </inertial>
        <visual>
            <origin xyz="0 0 0" rpy="0 0 0" />
            <geometry>
                <mesh filename="package://sc/meshes/LLink2.STL" />
            </geometry>
            <material name="">
                <color rgba="1 1 1 1" />
            </material>
        </visual>
        <collision>
            <origin xyz="0 0 0" rpy="0 0 0" />
            <geometry>
                <mesh filename="package://sc/meshes/LLink2.STL" />
            </geometry>
        </collision>
    </link>
    <joint name="LJoint2" type="revolute">
        <origin xyz="-0.0184000000000004 0.0500000000000003 -0.0019000000000001" rpy="0 0 0" />
        <parent link="LLink1" />
        <child link="LLink2" />
        <axis xyz="-1 0 0" />
        <limit lower="-7" upper="7" effort="100" velocity="100" />
    </joint>
    <link name="LLink3">
        <inertial>
            <origin xyz="-0.00174695120635276 0.0155624857969087 0.000208289726052968" rpy="0 0 0" />
            <mass value="0.0326658685720031" />
            <inertia ixx="7.33467512067219E-06" ixy="4.44570544033892E-07" ixz="5.94126907464581E-09" iyy="6.74848774005969E-06" iyz="-8.2103716594504E-10" izz="6.85677131169313E-06" />
        </inertial>
        <visual>
            <origin xyz="0 0 0" rpy="0 0 0" />
            <geometry>
                <mesh filename="package://sc/meshes/LLink3.STL" />
            </geometry>
            <material name="">
                <color rgba="1 1 1 1" />
            </material>
        </visual>
        <collision>
            <origin xyz="0 0 0" rpy="0 0 0" />
            <geometry>
                <mesh filename="package://sc/meshes/LLink3.STL" />
            </geometry>
        </collision>
    </link>
    <joint name="LJoint3" type="revolute">
        <origin xyz="0.0261 0.058294777461831 0.00078033369499371" rpy="0 0 0" />
        <parent link="LLink2" />
        <child link="LLink3" />
        <axis xyz="0 0.999910419585446 0.0133847975127525" />
        <limit lower="-7" upper="7" effort="100" velocity="100" />
    </joint>
    <link name="LLink3_1">
        <inertial>
            <origin xyz="4.3367715751863E-08 0.00890140013993151 0.00129606105888094" rpy="0 0 0" />
            <mass value="0.00289407866969813" />
            <inertia ixx="3.0690901472021E-07" ixy="3.89030769890215E-18" ixz="8.83976172093088E-17" iyy="8.81199665862608E-08" iyz="-1.80432091071285E-08" izz="2.27810691470849E-07" />
        </inertial>
        <visual>
            <origin xyz="0 0 0" rpy="0 0 0" />
            <geometry>
                <mesh filename="package://sc/meshes/LLink3_1.STL" />
            </geometry>
            <material name="">
                <color rgba="1 1 1 1" />
            </material>
        </visual>
        <collision>
            <origin xyz="0 0 0" rpy="0 0 0" />
            <geometry>
                <mesh filename="package://sc/meshes/LLink3_1.STL" />
            </geometry>
        </collision>
    </link>
    <joint name="LJoint3_1" type="revolute">
        <origin xyz="-0.0051500000000001 0.0433236806418495 -0.0164215923601529" rpy="0 0 0" />
        <parent link="LLink3" />
        <child link="LLink3_1" />
        <axis xyz="-1 0 0" />
        <limit lower="-7" upper="7" effort="100" velocity="100" />
    </joint>
    <link name="LLink3_2">
        <inertial>
            <origin xyz="4.33588432102727E-08 0.00883859954810817 -0.00127434628893146" rpy="0 0 0" />
            <mass value="0.00289407865390281" />
            <inertia ixx="3.06909014350187E-07" ixy="7.23342082666805E-17" ixz="1.98792430276273E-18" iyy="8.72544661031653E-08" iyz="1.42795643855156E-08" izz="2.28676191486431E-07" />
        </inertial>
        <visual>
            <origin xyz="0 0 0" rpy="0 0 0" />
            <geometry>
                <mesh filename="package://sc/meshes/LLink3_2.STL" />
            </geometry>
            <material name="">
                <color rgba="1 1 1 1" />
            </material>
        </visual>
        <collision>
            <origin xyz="0 0 0" rpy="0 0 0" />
            <geometry>
                <mesh filename="package://sc/meshes/LLink3_2.STL" />
            </geometry>
        </collision>
    </link>
    <joint name="LJoint3_2" type="revolute">
        <origin xyz="-0.00514999999999999 0.0428685975264159 0.0175753619057523" rpy="0 0 0" />
        <parent link="LLink3" />
        <child link="LLink3_2" />
        <axis xyz="-1 0 0" />
        <limit lower="-7" upper="7" effort="100" velocity="100" />
    </joint>
    <link name="RLink1">
        <inertial>
            <origin xyz="-0.000298924163147085 0.0265937423803867 -0.00191385785280264" rpy="0 0 0" />
            <mass value="0.0115574626542669" />
            <inertia ixx="2.91200972694175E-06" ixy="-4.92828371320536E-10" ixz="6.35466856368463E-21" iyy="2.17801001508802E-06" iyz="-5.06509283902259E-09" izz="4.52404060614241E-06" />
        </inertial>
        <visual>
            <origin xyz="0 0 0" rpy="0 0 0" />
            <geometry>
                <mesh filename="package://sc/meshes/RLink1.STL" />
            </geometry>
            <material name="">
                <color rgba="1 1 1 1" />
            </material>
        </visual>
        <collision>
            <origin xyz="0 0 0" rpy="0 0 0" />
            <geometry>
                <mesh filename="package://sc/meshes/RLink1.STL" />
            </geometry>
        </collision>
    </link>
    <joint name="RJoint1" type="revolute">
        <origin xyz="0.0818500000000012 0.0997499999999982 0.0859499999999994" rpy="0 0 0" />
        <parent link="BASE" />
        <child link="RLink1" />
        <axis xyz="0 0 1" />
        <limit lower="-7" upper="7" effort="100" velocity="100" />
    </joint>
    <link name="RLink2">
        <inertial>
            <origin xyz="0.0205496139372623 0.0175021550440243 0.000234379054560946" rpy="0 0 0" />
            <mass value="0.0340893648716292" />
            <inertia ixx="6.35151914226646E-06" ixy="1.89185822348287E-13" ixz="-1.41438282484239E-11" iyy="2.72243652453906E-06" iyz="-5.61985541126744E-08" izz="6.91960317556336E-06" />
        </inertial>
        <visual>
            <origin xyz="0 0 0" rpy="0 0 0" />
            <geometry>
                <mesh filename="package://sc/meshes/RLink2.STL" />
            </geometry>
            <material name="">
                <color rgba="1 1 1 1" />
            </material>
        </visual>
        <collision>
            <origin xyz="0 0 0" rpy="0 0 0" />
            <geometry>
                <mesh filename="package://sc/meshes/RLink2.STL" />
            </geometry>
        </collision>
    </link>
    <joint name="RJoint2" type="revolute">
        <origin xyz="-0.0183999999999999 0.0500000000000004 -0.00190000000000004" rpy="0 0 0" />
        <parent link="RLink1" />
        <child link="RLink2" />
        <axis xyz="-1 0 0" />
        <limit lower="-7" upper="7" effort="100" velocity="100" />
    </joint>
    <link name="RLink3">
        <inertial>
            <origin xyz="-0.00176276782605905 0.0157134798716438 0.000210310666534673" rpy="0 0 0" />
            <mass value="0.0323727705454218" />
            <inertia ixx="7.33362926340618E-06" ixy="4.4457054370154E-07" ixz="5.94126953869777E-09" iyy="6.73006158894962E-06" iyz="-8.28800708231922E-10" izz="6.83892501560691E-06" />
        </inertial>
        <visual>
            <origin xyz="0 0 0" rpy="0 0 0" />
            <geometry>
                <mesh filename="package://sc/meshes/RLink3.STL" />
            </geometry>
            <material name="">
                <color rgba="1 1 1 1" />
            </material>
        </visual>
        <collision>
            <origin xyz="0 0 0" rpy="0 0 0" />
            <geometry>
                <mesh filename="package://sc/meshes/RLink3.STL" />
            </geometry>
        </collision>
    </link>
    <joint name="RJoint3" type="revolute">
        <origin xyz="0.0261000000000005 0.0582947774618308 0.000780333694993751" rpy="0 0 0" />
        <parent link="RLink2" />
        <child link="RLink3" />
        <axis xyz="0 0.999910419585446 0.0133847975127534" />
        <limit lower="-7" upper="7" effort="100" velocity="100" />
    </joint>
    <link name="RLink3_1">
        <inertial>
            <origin xyz="4.33632795782124E-08 0.00890140016805663 0.00129606107897806" rpy="0 0 0" />
            <mass value="0.00289407866180048" />
            <inertia ixx="3.06909014535199E-07" ixy="-1.35164256995207E-17" ixz="8.94134288419881E-18" iyy="8.81199666592927E-08" iyz="-1.80432093576434E-08" izz="2.27810691164061E-07" />
        </inertial>
        <visual>
            <origin xyz="0 0 0" rpy="0 0 0" />
            <geometry>
                <mesh filename="package://sc/meshes/RLink3_1.STL" />
            </geometry>
            <material name="">
                <color rgba="1 1 1 1" />
            </material>
        </visual>
        <collision>
            <origin xyz="0 0 0" rpy="0 0 0" />
            <geometry>
                <mesh filename="package://sc/meshes/RLink3_1.STL" />
            </geometry>
        </collision>
    </link>
    <joint name="RJoint3_1" type="revolute">
        <origin xyz="-0.00514999999999965 0.0433236806418496 -0.0164215923601529" rpy="0 0 0" />
        <parent link="RLink3" />
        <child link="RLink3_1" />
        <axis xyz="-1 0 0" />
        <limit lower="-7" upper="7" effort="100" velocity="100" />
    </joint>
    <link name="RLink3_2">
        <inertial>
            <origin xyz="4.33544071198888E-08 0.00883859958734828 -0.00127434629217303" rpy="0 0 0" />
            <mass value="0.00289407864600513" />
            <inertia ixx="3.06909014165173E-07" ixy="-2.30814262993918E-21" ixz="-1.33344257874619E-21" iyy="8.72544660981425E-08" iyz="1.427956439419E-08" izz="2.28676191257695E-07" />
        </inertial>
        <visual>
            <origin xyz="0 0 0" rpy="0 0 0" />
            <geometry>
                <mesh filename="package://sc/meshes/RLink3_2.STL" />
            </geometry>
            <material name="">
                <color rgba="1 1 1 1" />
            </material>
        </visual>
        <collision>
            <origin xyz="0 0 0" rpy="0 0 0" />
            <geometry>
                <mesh filename="package://sc/meshes/RLink3_2.STL" />
            </geometry>
        </collision>
    </link>
    <joint name="RJoint3_2" type="revolute">
        <origin xyz="-0.00514999999999954 0.0428685975264159 0.0175753619057523" rpy="0 0 0" />
        <parent link="RLink3" />
        <child link="RLink3_2" />
        <axis xyz="-1 0 0" />
        <limit lower="-7" upper="7" effort="100" velocity="100" />
    </joint>
    <transmission name="trans_Joint1_1">
        <type>transmission_interface/SimpleTransmission</type>
        <joint name="Joint1_1">
            <hardwareInterface>hardware_interface/EffortJointInterface</hardwareInterface>
        </joint>
        <actuator name="Joint1_1_motor">
            <hardwareInterface>hardware_interface/EffortJointInterface</hardwareInterface>
            <mechanicalReduction>1</mechanicalReduction>
        </actuator>
    </transmission>
    <transmission name="trans_Joint1_2">
        <type>transmission_interface/SimpleTransmission</type>
        <joint name="Joint1_2">
            <hardwareInterface>hardware_interface/EffortJointInterface</hardwareInterface>
        </joint>
        <actuator name="Joint1_2_motor">
            <hardwareInterface>hardware_interface/EffortJointInterface</hardwareInterface>
            <mechanicalReduction>1</mechanicalReduction>
        </actuator>
    </transmission>
    <transmission name="trans_Joint1_3">
        <type>transmission_interface/SimpleTransmission</type>
        <joint name="Joint1_3">
            <hardwareInterface>hardware_interface/EffortJointInterface</hardwareInterface>
        </joint>
        <actuator name="Joint1_3_motor">
            <hardwareInterface>hardware_interface/EffortJointInterface</hardwareInterface>
            <mechanicalReduction>1</mechanicalReduction>
        </actuator>
    </transmission>
    <transmission name="trans_Joint2_1">
        <type>transmission_interface/SimpleTransmission</type>
        <joint name="Joint2_1">
            <hardwareInterface>hardware_interface/EffortJointInterface</hardwareInterface>
        </joint>
        <actuator name="Joint2_1_motor">
            <hardwareInterface>hardware_interface/EffortJointInterface</hardwareInterface>
            <mechanicalReduction>1</mechanicalReduction>
        </actuator>
    </transmission>
    <transmission name="trans_Joint2_2">
        <type>transmission_interface/SimpleTransmission</type>
        <joint name="Joint2_2">
            <hardwareInterface>hardware_interface/EffortJointInterface</hardwareInterface>
        </joint>
        <actuator name="Joint2_2_motor">
            <hardwareInterface>hardware_interface/EffortJointInterface</hardwareInterface>
            <mechanicalReduction>1</mechanicalReduction>
        </actuator>
    </transmission>
    <transmission name="trans_Joint2_3">
        <type>transmission_interface/SimpleTransmission</type>
        <joint name="Joint2_3">
            <hardwareInterface>hardware_interface/EffortJointInterface</hardwareInterface>
        </joint>
        <actuator name="Joint2_3_motor">
            <hardwareInterface>hardware_interface/EffortJointInterface</hardwareInterface>
            <mechanicalReduction>1</mechanicalReduction>
        </actuator>
    </transmission>
    <transmission name="trans_Joint3_1">
        <type>transmission_interface/SimpleTransmission</type>
        <joint name="Joint3_1">
            <hardwareInterface>hardware_interface/EffortJointInterface</hardwareInterface>
        </joint>
        <actuator name="Joint3_1_motor">
            <hardwareInterface>hardware_interface/EffortJointInterface</hardwareInterface>
            <mechanicalReduction>1</mechanicalReduction>
        </actuator>
    </transmission>
    <transmission name="trans_Joint3_2">
        <type>transmission_interface/SimpleTransmission</type>
        <joint name="Joint3_2">
            <hardwareInterface>hardware_interface/EffortJointInterface</hardwareInterface>
        </joint>
        <actuator name="Joint3_2_motor">
            <hardwareInterface>hardware_interface/EffortJointInterface</hardwareInterface>
            <mechanicalReduction>1</mechanicalReduction>
        </actuator>
    </transmission>
    <transmission name="trans_Joint3_3">
        <type>transmission_interface/SimpleTransmission</type>
        <joint name="Joint3_3">
            <hardwareInterface>hardware_interface/EffortJointInterface</hardwareInterface>
        </joint>
        <actuator name="Joint3_3_motor">
            <hardwareInterface>hardware_interface/EffortJointInterface</hardwareInterface>
            <mechanicalReduction>1</mechanicalReduction>
        </actuator>
    </transmission>
    <transmission name="trans_Joint4_1">
        <type>transmission_interface/SimpleTransmission</type>
        <joint name="Joint4_1">
            <hardwareInterface>hardware_interface/EffortJointInterface</hardwareInterface>
        </joint>
        <actuator name="Joint4_1_motor">
            <hardwareInterface>hardware_interface/EffortJointInterface</hardwareInterface>
            <mechanicalReduction>1</mechanicalReduction>
        </actuator>
    </transmission>
    <transmission name="trans_Joint4_2">
        <type>transmission_interface/SimpleTransmission</type>
        <joint name="Joint4_2">
            <hardwareInterface>hardware_interface/EffortJointInterface</hardwareInterface>
        </joint>
        <actuator name="Joint4_2_motor">
            <hardwareInterface>hardware_interface/EffortJointInterface</hardwareInterface>
            <mechanicalReduction>1</mechanicalReduction>
        </actuator>
    </transmission>
    <transmission name="trans_Joint4_3">
        <type>transmission_interface/SimpleTransmission</type>
        <joint name="Joint4_3">
            <hardwareInterface>hardware_interface/EffortJointInterface</hardwareInterface>
        </joint>
        <actuator name="Joint4_3_motor">
            <hardwareInterface>hardware_interface/EffortJointInterface</hardwareInterface>
            <mechanicalReduction>1</mechanicalReduction>
        </actuator>
    </transmission>
    <transmission name="trans_Joint5_1">
        <type>transmission_interface/SimpleTransmission</type>
        <joint name="Joint5_1">
            <hardwareInterface>hardware_interface/EffortJointInterface</hardwareInterface>
        </joint>
        <actuator name="Joint5_1_motor">
            <hardwareInterface>hardware_interface/EffortJointInterface</hardwareInterface>
            <mechanicalReduction>1</mechanicalReduction>
        </actuator>
    </transmission>
    <transmission name="trans_Joint5_2">
        <type>transmission_interface/SimpleTransmission</type>
        <joint name="Joint5_2">
            <hardwareInterface>hardware_interface/EffortJointInterface</hardwareInterface>
        </joint>
        <actuator name="Joint5_2_motor">
            <hardwareInterface>hardware_interface/EffortJointInterface</hardwareInterface>
            <mechanicalReduction>1</mechanicalReduction>
        </actuator>
    </transmission>
    <transmission name="trans_Joint5_3">
        <type>transmission_interface/SimpleTransmission</type>
        <joint name="Joint5_3">
            <hardwareInterface>hardware_interface/EffortJointInterface</hardwareInterface>
        </joint>
        <actuator name="Joint5_3_motor">
            <hardwareInterface>hardware_interface/EffortJointInterface</hardwareInterface>
            <mechanicalReduction>1</mechanicalReduction>
        </actuator>
    </transmission>
    <transmission name="trans_Joint6_1">
        <type>transmission_interface/SimpleTransmission</type>
        <joint name="Joint6_1">
            <hardwareInterface>hardware_interface/EffortJointInterface</hardwareInterface>
        </joint>
        <actuator name="Joint6_1_motor">
            <hardwareInterface>hardware_interface/EffortJointInterface</hardwareInterface>
            <mechanicalReduction>1</mechanicalReduction>
        </actuator>
    </transmission>
    <transmission name="trans_Joint6_2">
        <type>transmission_interface/SimpleTransmission</type>
        <joint name="Joint6_2">
            <hardwareInterface>hardware_interface/EffortJointInterface</hardwareInterface>
        </joint>
        <actuator name="Joint6_2_motor">
            <hardwareInterface>hardware_interface/EffortJointInterface</hardwareInterface>
            <mechanicalReduction>1</mechanicalReduction>
        </actuator>
    </transmission>
    <transmission name="trans_Joint6_3">
        <type>transmission_interface/SimpleTransmission</type>
        <joint name="Joint6_3">
            <hardwareInterface>hardware_interface/EffortJointInterface</hardwareInterface>
        </joint>
        <actuator name="Joint6_3_motor">
            <hardwareInterface>hardware_interface/EffortJointInterface</hardwareInterface>
            <mechanicalReduction>1</mechanicalReduction>
        </actuator>
    </transmission>
    <transmission name="trans_TJoint1">
        <type>transmission_interface/SimpleTransmission</type>
        <joint name="TJoint1">
            <hardwareInterface>hardware_interface/EffortJointInterface</hardwareInterface>
        </joint>
        <actuator name="TJoint1_motor">
            <hardwareInterface>hardware_interface/EffortJointInterface</hardwareInterface>
            <mechanicalReduction>1</mechanicalReduction>
        </actuator>
    </transmission>
    <transmission name="trans_TJoint2">
        <type>transmission_interface/SimpleTransmission</type>
        <joint name="TJoint2">
            <hardwareInterface>hardware_interface/EffortJointInterface</hardwareInterface>
        </joint>
        <actuator name="TJoint2_motor">
            <hardwareInterface>hardware_interface/EffortJointInterface</hardwareInterface>
            <mechanicalReduction>1</mechanicalReduction>
        </actuator>
    </transmission>
    <transmission name="trans_TJoint3">
        <type>transmission_interface/SimpleTransmission</type>
        <joint name="TJoint3">
            <hardwareInterface>hardware_interface/EffortJointInterface</hardwareInterface>
        </joint>
        <actuator name="TJoint3_motor">
            <hardwareInterface>hardware_interface/EffortJointInterface</hardwareInterface>
            <mechanicalReduction>1</mechanicalReduction>
        </actuator>
    </transmission>
    <transmission name="trans_TJoint4">
        <type>transmission_interface/SimpleTransmission</type>
        <joint name="TJoint4">
            <hardwareInterface>hardware_interface/EffortJointInterface</hardwareInterface>
        </joint>
        <actuator name="TJoint4_motor">
            <hardwareInterface>hardware_interface/EffortJointInterface</hardwareInterface>
            <mechanicalReduction>1</mechanicalReduction>
        </actuator>
    </transmission>
    <transmission name="trans_TJoint5">
        <type>transmission_interface/SimpleTransmission</type>
        <joint name="TJoint5">
            <hardwareInterface>hardware_interface/EffortJointInterface</hardwareInterface>
        </joint>
        <actuator name="TJoint5_motor">
            <hardwareInterface>hardware_interface/EffortJointInterface</hardwareInterface>
            <mechanicalReduction>1</mechanicalReduction>
        </actuator>
    </transmission>
    <transmission name="trans_TJoint5_1">
        <type>transmission_interface/SimpleTransmission</type>
        <joint name="TJoint5_1">
            <hardwareInterface>hardware_interface/EffortJointInterface</hardwareInterface>
        </joint>
        <actuator name="TJoint5_1_motor">
            <hardwareInterface>hardware_interface/EffortJointInterface</hardwareInterface>
            <mechanicalReduction>1</mechanicalReduction>
        </actuator>
    </transmission>
    <transmission name="trans_TJoint5_2">
        <type>transmission_interface/SimpleTransmission</type>
        <joint name="TJoint5_2">
            <hardwareInterface>hardware_interface/EffortJointInterface</hardwareInterface>
        </joint>
        <actuator name="TJoint5_2_motor">
            <hardwareInterface>hardware_interface/EffortJointInterface</hardwareInterface>
            <mechanicalReduction>1</mechanicalReduction>
        </actuator>
    </transmission>
    <transmission name="trans_LJoint1">
        <type>transmission_interface/SimpleTransmission</type>
        <joint name="LJoint1">
            <hardwareInterface>hardware_interface/EffortJointInterface</hardwareInterface>
        </joint>
        <actuator name="LJoint1_motor">
            <hardwareInterface>hardware_interface/EffortJointInterface</hardwareInterface>
            <mechanicalReduction>1</mechanicalReduction>
        </actuator>
    </transmission>
    <transmission name="trans_LJoint2">
        <type>transmission_interface/SimpleTransmission</type>
        <joint name="LJoint2">
            <hardwareInterface>hardware_interface/EffortJointInterface</hardwareInterface>
        </joint>
        <actuator name="LJoint2_motor">
            <hardwareInterface>hardware_interface/EffortJointInterface</hardwareInterface>
            <mechanicalReduction>1</mechanicalReduction>
        </actuator>
    </transmission>
    <transmission name="trans_LJoint3">
        <type>transmission_interface/SimpleTransmission</type>
        <joint name="LJoint3">
            <hardwareInterface>hardware_interface/EffortJointInterface</hardwareInterface>
        </joint>
        <actuator name="LJoint3_motor">
            <hardwareInterface>hardware_interface/EffortJointInterface</hardwareInterface>
            <mechanicalReduction>1</mechanicalReduction>
        </actuator>
    </transmission>
    <transmission name="trans_LJoint3_1">
        <type>transmission_interface/SimpleTransmission</type>
        <joint name="LJoint3_1">
            <hardwareInterface>hardware_interface/EffortJointInterface</hardwareInterface>
        </joint>
        <actuator name="LJoint3_1_motor">
            <hardwareInterface>hardware_interface/EffortJointInterface</hardwareInterface>
            <mechanicalReduction>1</mechanicalReduction>
        </actuator>
    </transmission>
    <transmission name="trans_LJoint3_2">
        <type>transmission_interface/SimpleTransmission</type>
        <joint name="LJoint3_2">
            <hardwareInterface>hardware_interface/EffortJointInterface</hardwareInterface>
        </joint>
        <actuator name="LJoint3_2_motor">
            <hardwareInterface>hardware_interface/EffortJointInterface</hardwareInterface>
            <mechanicalReduction>1</mechanicalReduction>
        </actuator>
    </transmission>
    <transmission name="trans_RJoint1">
        <type>transmission_interface/SimpleTransmission</type>
        <joint name="RJoint1">
            <hardwareInterface>hardware_interface/EffortJointInterface</hardwareInterface>
        </joint>
        <actuator name="RJoint1_motor">
            <hardwareInterface>hardware_interface/EffortJointInterface</hardwareInterface>
            <mechanicalReduction>1</mechanicalReduction>
        </actuator>
    </transmission>
    <transmission name="trans_RJoint2">
        <type>transmission_interface/SimpleTransmission</type>
        <joint name="RJoint2">
            <hardwareInterface>hardware_interface/EffortJointInterface</hardwareInterface>
        </joint>
        <actuator name="RJoint2_motor">
            <hardwareInterface>hardware_interface/EffortJointInterface</hardwareInterface>
            <mechanicalReduction>1</mechanicalReduction>
        </actuator>
    </transmission>
    <transmission name="trans_RJoint3">
        <type>transmission_interface/SimpleTransmission</type>
        <joint name="RJoint3">
            <hardwareInterface>hardware_interface/EffortJointInterface</hardwareInterface>
        </joint>
        <actuator name="RJoint3_motor">
            <hardwareInterface>hardware_interface/EffortJointInterface</hardwareInterface>
            <mechanicalReduction>1</mechanicalReduction>
        </actuator>
    </transmission>
    <transmission name="trans_RJoint3_1">
        <type>transmission_interface/SimpleTransmission</type>
        <joint name="RJoint3_1">
            <hardwareInterface>hardware_interface/EffortJointInterface</hardwareInterface>
        </joint>
        <actuator name="RJoint3_1_motor">
            <hardwareInterface>hardware_interface/EffortJointInterface</hardwareInterface>
            <mechanicalReduction>1</mechanicalReduction>
        </actuator>
    </transmission>
    <transmission name="trans_RJoint3_2">
        <type>transmission_interface/SimpleTransmission</type>
        <joint name="RJoint3_2">
            <hardwareInterface>hardware_interface/EffortJointInterface</hardwareInterface>
        </joint>
        <actuator name="RJoint3_2_motor">
            <hardwareInterface>hardware_interface/EffortJointInterface</hardwareInterface>
            <mechanicalReduction>1</mechanicalReduction>
        </actuator>
    </transmission>
    <gazebo>
        <plugin name="gazebo_ros_control">
            <robotNamespace>/</robotNamespace>
        </plugin>
    </gazebo>
</robot>
